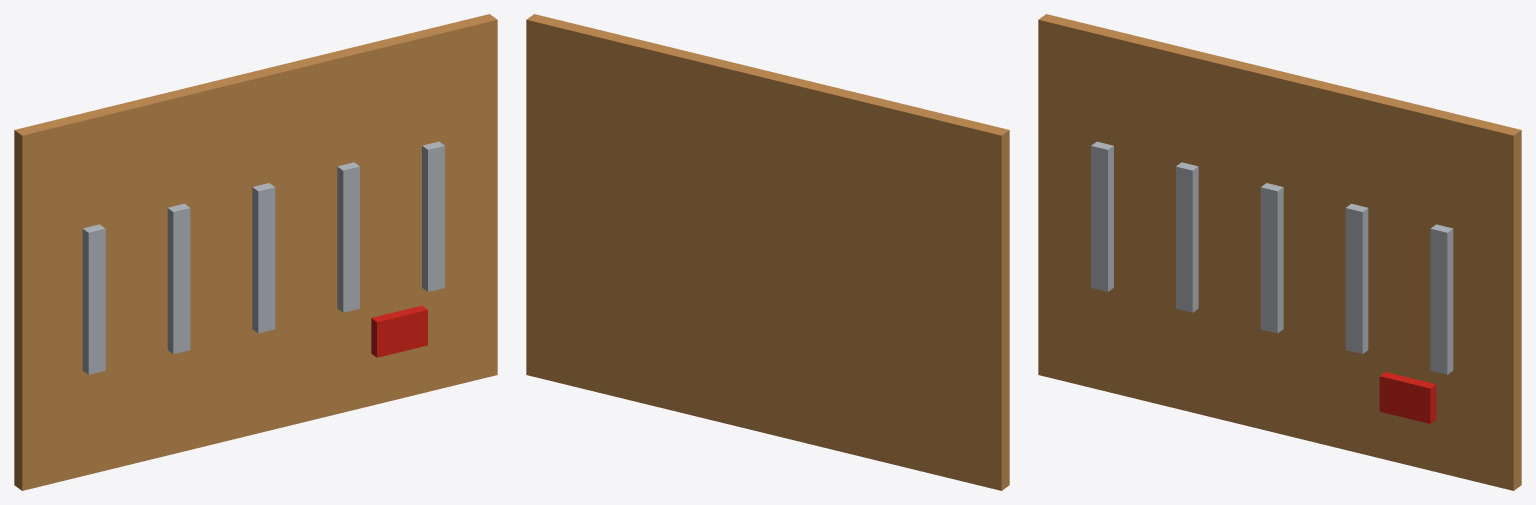
Rendered from garage_pegboard.glb.
3 renders of one model, left to right at view 1: azimuth 30°, elevation 25°; view 2: azimuth 150°, elevation 25°; view 3: azimuth 330°, elevation 25°, orthographic.
Parts seen in each view (by area): view 1: pegboard; view 2: pegboard; view 3: pegboard.
Boxes of the visible parts, left/top/right/bottom form: pegboard: left=14, top=14, right=497, bottom=490; pegboard: left=526, top=14, right=1009, bottom=490; pegboard: left=1038, top=14, right=1521, bottom=490.
Size of the model in its own units: 1.4 by 1 by 0.075.
